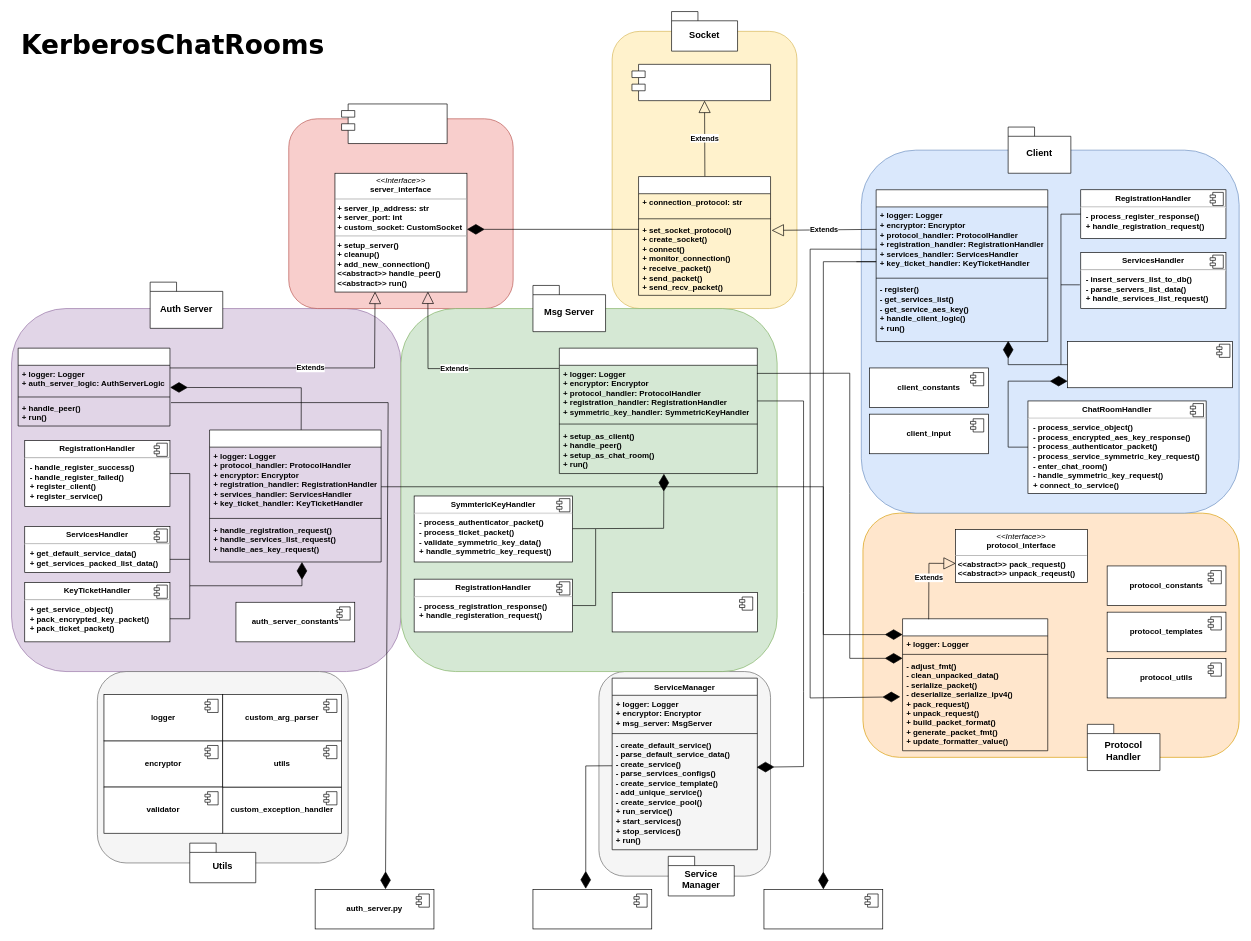
This 1251x941 diagram has some shape labels left out. The box of each missing label's shape, as (x1, y1, x2, y2) in pixels:
AuthServerCore: (17, 347, 170, 426)
AuthServerLogic: (209, 429, 381, 562)
client.py: (763, 889, 883, 929)
ClientCore: (875, 189, 1048, 342)
CustomSocket: (638, 176, 771, 295)
KeyTicketHandler - get_service_object() + handle_aes_key_request(): (1067, 341, 1233, 388)
msg_server.py: (532, 889, 652, 929)
msg_server_constants: (611, 592, 757, 632)
MsgServerCore: (559, 347, 757, 474)
ProtocolHandler: (902, 618, 1048, 751)
Server: (341, 103, 447, 144)
threading.Thread: (631, 64, 771, 101)
